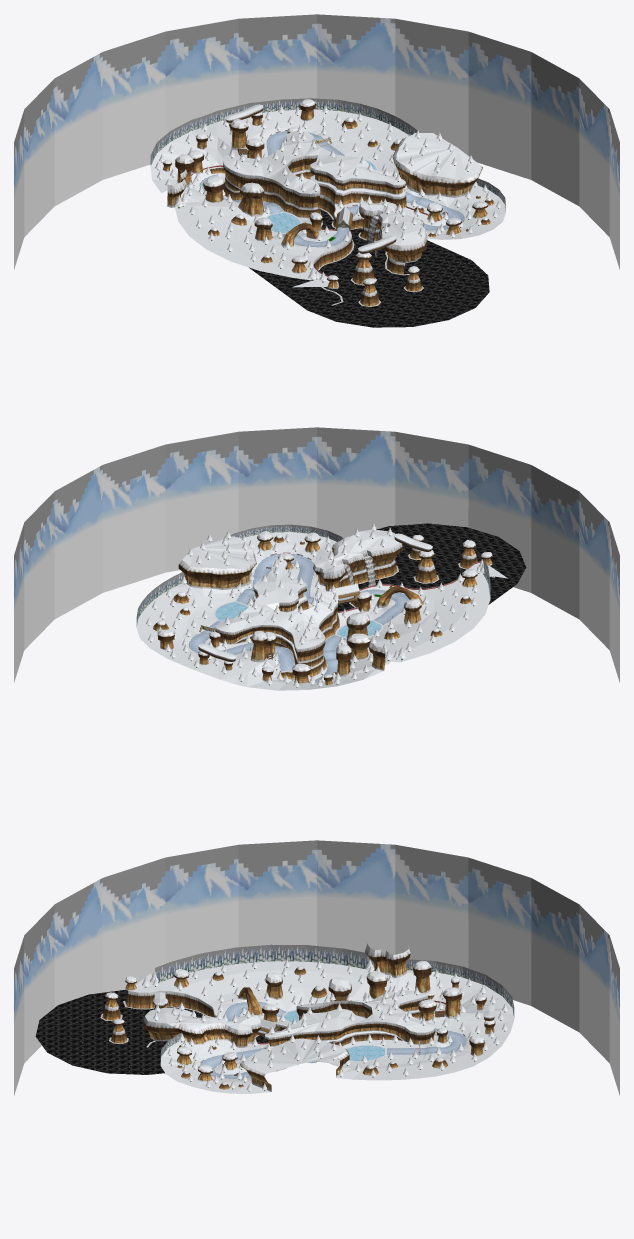
Rendered from course.glb.
3 views of the same model, one above another, from view 1: azimuth 30°, elevation 25°; view 2: azimuth 150°, elevation 25°; view 3: azimuth 270°, elevation 25° (orthographic).
Visible parts, largest first — view 1: BG_Mountains, Offroad_Snow, Wall_RockA, Water, Tree_Snow, BG_Trees, Road; view 2: BG_Mountains, Offroad_Snow, Wall_RockA, Water, Tree_Snow, Road, BG_Trees, Ice; view 3: BG_Mountains, Offroad_Snow, Wall_RockA, Water, Tree_Snow, BG_Trees, Road, Ice.
Part boxes in pixels (bbox=[...]): BG_Mountains: bbox=[14, 14, 619, 269]; Offroad_Snow: bbox=[150, 99, 505, 287]; Wall_RockA: bbox=[163, 100, 494, 306]; Water: bbox=[249, 209, 489, 327]; Tree_Snow: bbox=[155, 105, 500, 282]; BG_Trees: bbox=[150, 98, 505, 211]; Road: bbox=[199, 130, 464, 247]; BG_Mountains: bbox=[14, 427, 619, 682]; Offroad_Snow: bbox=[136, 530, 507, 690]; Wall_RockA: bbox=[153, 533, 492, 685]; Water: bbox=[337, 523, 526, 611]; Tree_Snow: bbox=[146, 523, 484, 687]; Road: bbox=[188, 553, 409, 682]; BG_Trees: bbox=[136, 524, 490, 626]; Ice: bbox=[215, 602, 381, 637]; BG_Mountains: bbox=[14, 840, 619, 1095]; Offroad_Snow: bbox=[107, 961, 514, 1093]; Wall_RockA: bbox=[102, 943, 495, 1091]; Water: bbox=[35, 989, 268, 1074]; Tree_Snow: bbox=[142, 959, 507, 1091]; BG_Trees: bbox=[155, 944, 514, 1061]; Road: bbox=[199, 1001, 466, 1079]; Ice: bbox=[284, 1010, 384, 1060].
Size of the model in its own units: 165 by 38.5 by 165.
32 materials, 32 textured.
